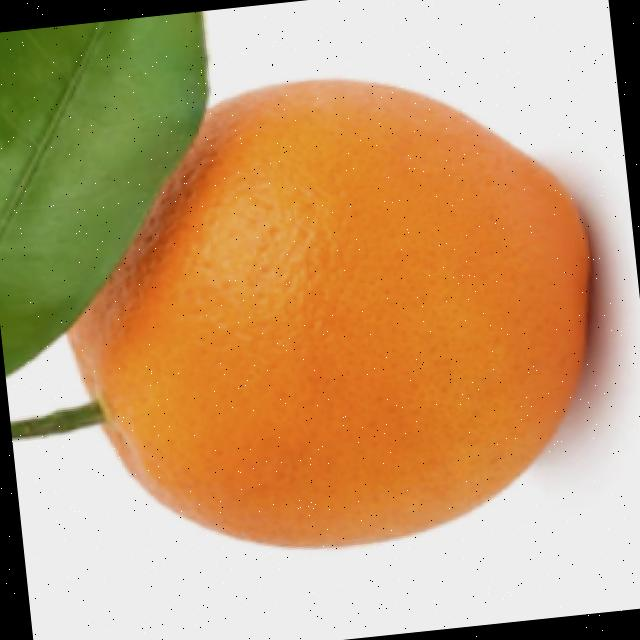orange: (38, 46, 616, 575)
